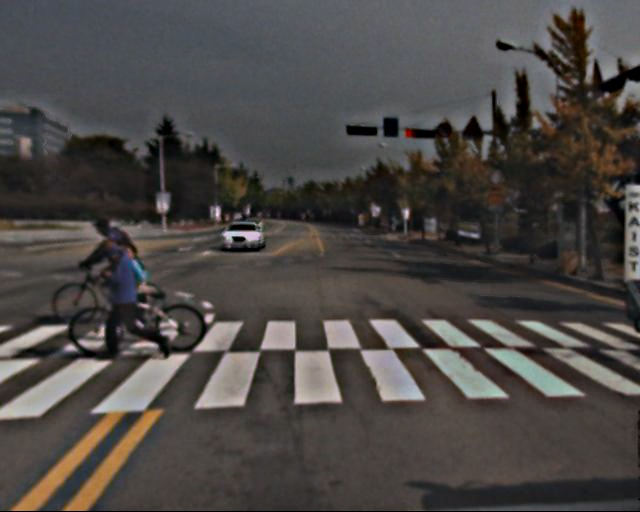person: (98, 219, 180, 352)
